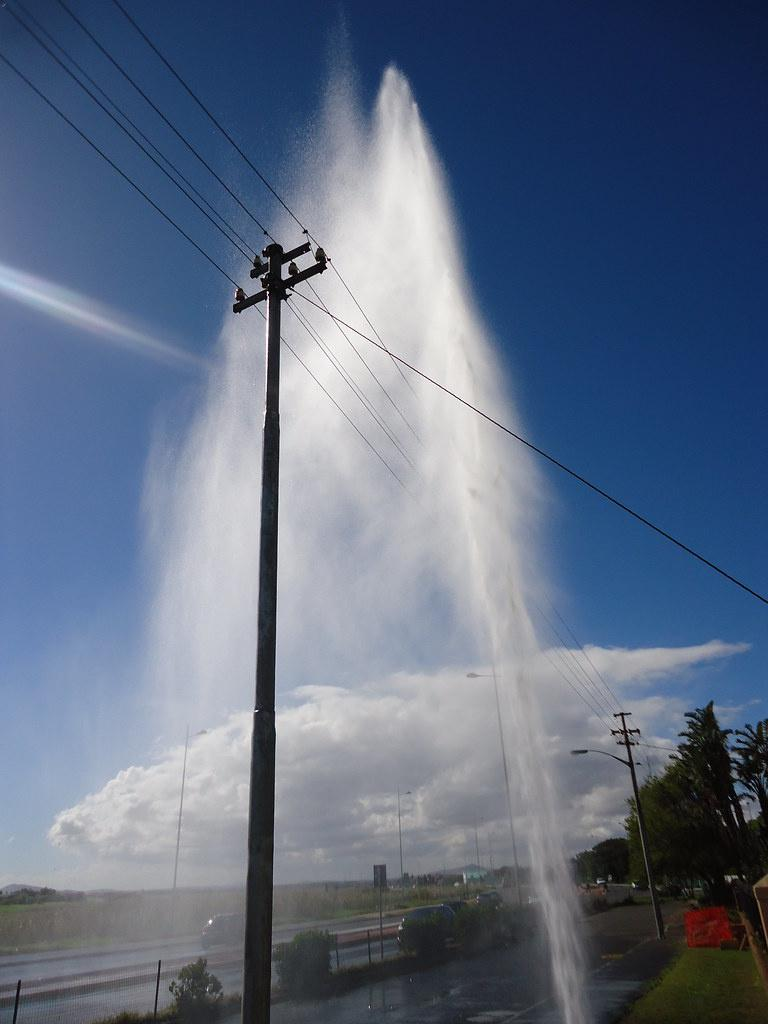pipe burst: (137, 60, 610, 1023)
